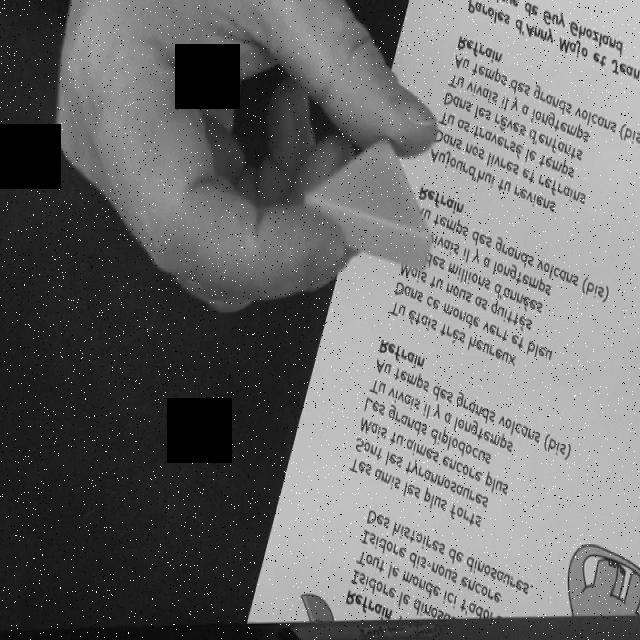triangle: (302, 134, 432, 286)
